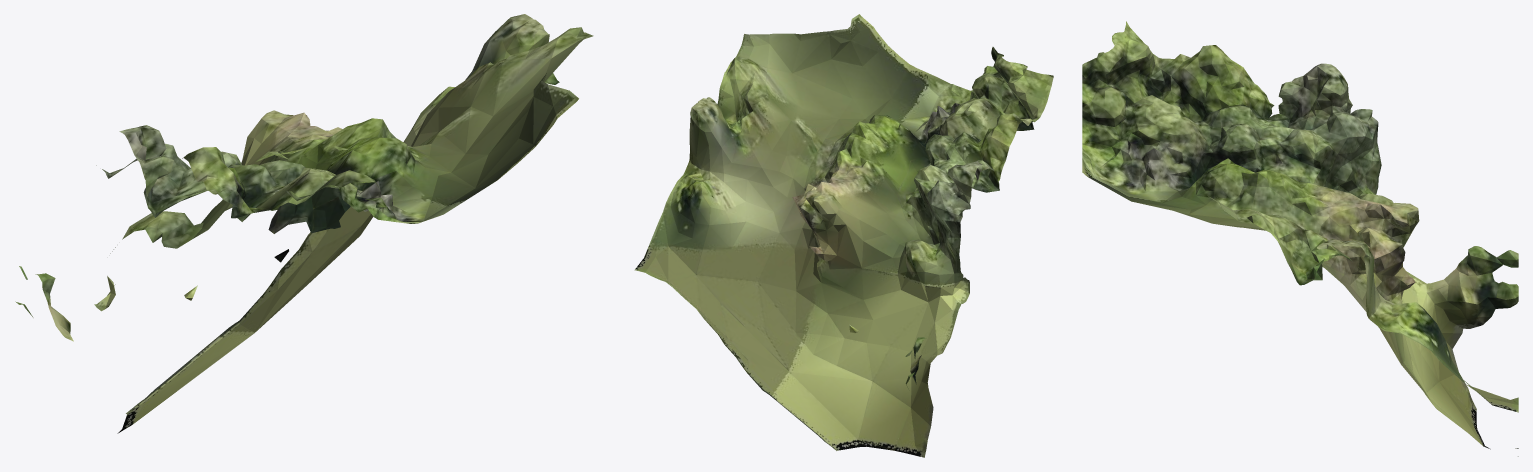
The picture shows the model from 3 angles, left to right: view 1: azimuth 30°, elevation 25°; view 2: azimuth 150°, elevation 25°; view 3: azimuth 270°, elevation 25°; orthographic projection. The views are drawn at different scales.
Size of the model in its own units: 52.22 by 52.22 by 52.22.
4 materials, 4 textured.
